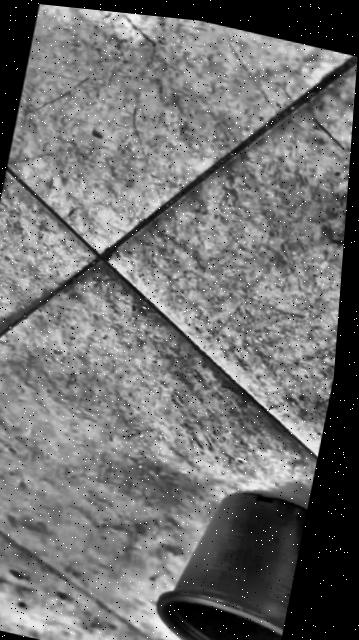pot: (144, 474, 307, 640)
